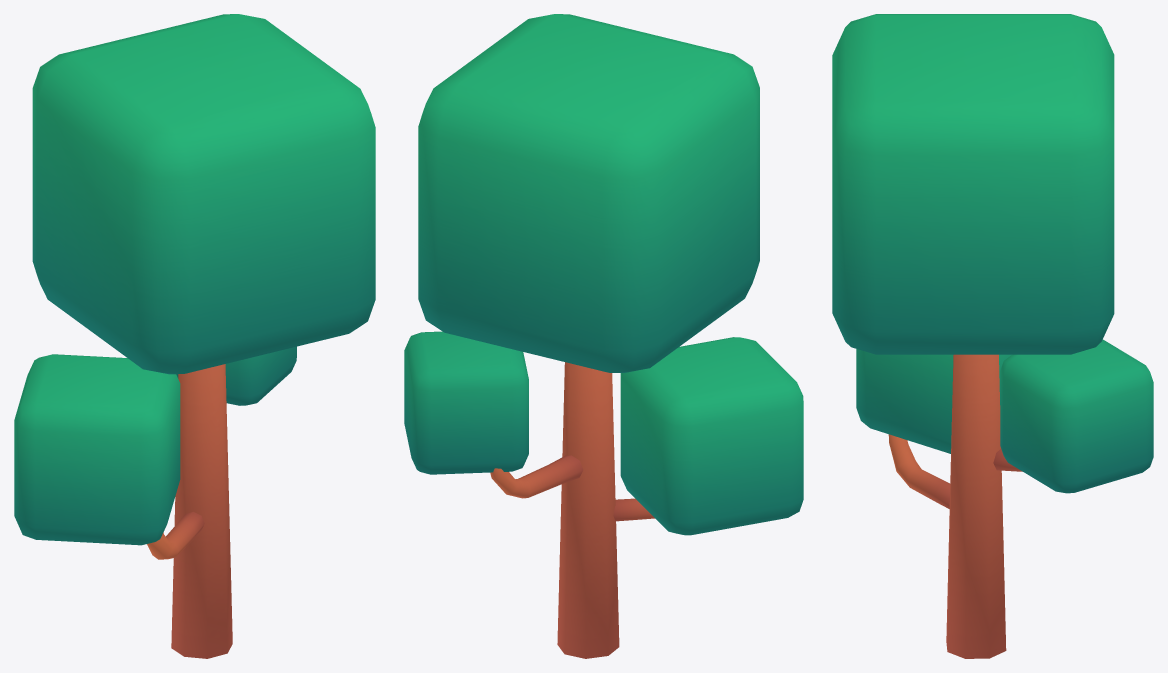
The model's file is Tree6_Green.glb.
The picture shows the model from 3 angles, left to right: view 1: azimuth 30°, elevation 25°; view 2: azimuth 150°, elevation 25°; view 3: azimuth 270°, elevation 25°; orthographic projection. The views are drawn at different scales.
Visible parts, largest first — view 1: Tree6_Green; view 2: Tree6_Green; view 3: Tree6_Green.
Part boxes in pixels (left/top/right/bottom): Tree6_Green: left=14, top=14, right=375, bottom=658; Tree6_Green: left=404, top=14, right=803, bottom=658; Tree6_Green: left=832, top=14, right=1153, bottom=658.
Size of the model in its own units: 2.69 by 4.4 by 2.17.
Materials: 1 (1 with a texture image).
